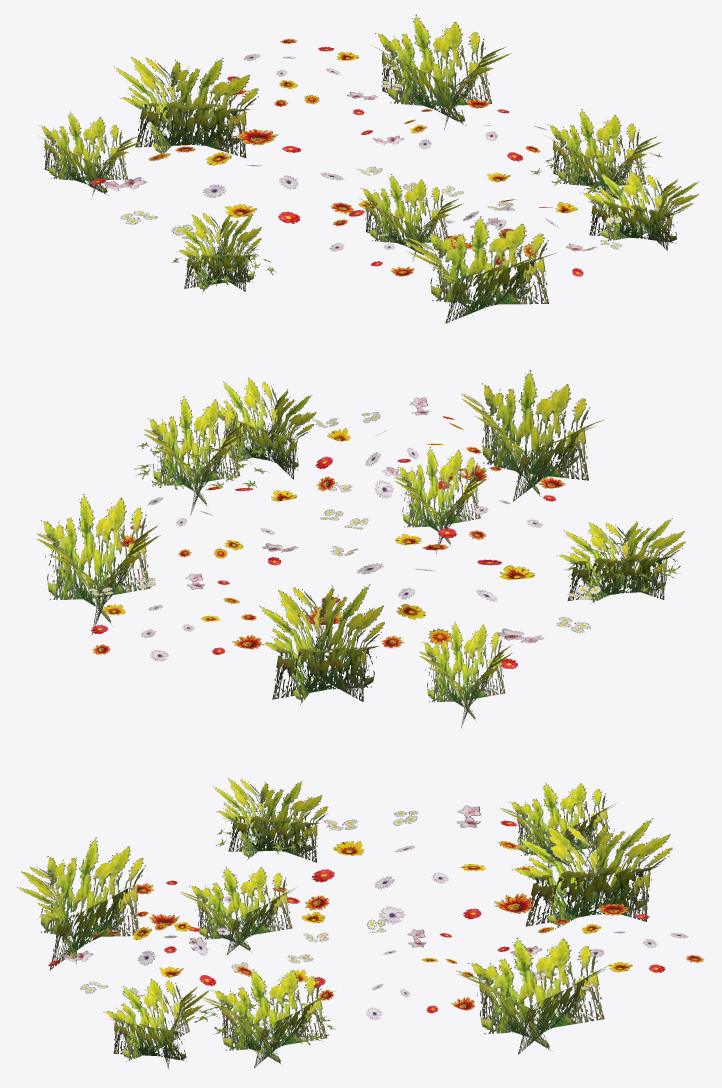
The model's file is flowerbed10m.DAE.
The picture shows the model from 3 angles, top to bottom: view 1: azimuth 30°, elevation 25°; view 2: azimuth 150°, elevation 25°; view 3: azimuth 270°, elevation 25°; orthographic projection. The views are drawn at different scales.
Parts seen in each view (by area): view 1: Object03-Pivot, Object04-Pivot, Object05-Pivot, Plane01-Pivot, Object09-Pivot, Object06-Pivot, Object07-Pivot, Object08-Pivot, Object02-Pivot, Plane02-Pivot, Object11-Pivot, Object01-Pivot; view 2: Object03-Pivot, Object04-Pivot, Object05-Pivot, Object08-Pivot, Plane01-Pivot, Object06-Pivot, Object09-Pivot, Object07-Pivot, Object02-Pivot, Plane02-Pivot, Object11-Pivot, Object01-Pivot; view 3: Object03-Pivot, Object05-Pivot, Object04-Pivot, Object06-Pivot, Plane01-Pivot, Object08-Pivot, Object02-Pivot, Object09-Pivot, Object07-Pivot, Plane02-Pivot, Object01-Pivot, Object11-Pivot.
Part boxes in pixels (<box>): Object03-Pivot: <box>113,57,258,157</box>; Object04-Pivot: <box>403,216,557,323</box>; Object05-Pivot: <box>374,14,511,130</box>; Plane01-Pivot: <box>90,99,547,286</box>; Object09-Pivot: <box>580,171,699,250</box>; Object06-Pivot: <box>543,109,662,199</box>; Object07-Pivot: <box>37,111,141,198</box>; Object08-Pivot: <box>177,212,261,292</box>; Object02-Pivot: <box>359,174,463,261</box>; Plane02-Pivot: <box>329,139,662,276</box>; Object11-Pivot: <box>227,38,402,115</box>; Object01-Pivot: <box>444,199,621,276</box>; Object03-Pivot: <box>259,584,384,705</box>; Object04-Pivot: <box>461,370,605,501</box>; Object05-Pivot: <box>37,494,160,635</box>; Object08-Pivot: <box>557,518,685,603</box>; Plane01-Pivot: <box>120,486,680,668</box>; Object06-Pivot: <box>144,396,247,514</box>; Object09-Pivot: <box>208,377,316,479</box>; Object07-Pivot: <box>419,621,512,728</box>; Object02-Pivot: <box>394,447,488,553</box>; Plane02-Pivot: <box>134,436,565,545</box>; Object11-Pivot: <box>88,573,262,661</box>; Object01-Pivot: <box>313,397,486,498</box>; Object03-Pivot: <box>512,818,672,929</box>; Object05-Pivot: <box>456,937,611,1054</box>; Object04-Pivot: <box>17,837,148,970</box>; Object06-Pivot: <box>202,969,334,1068</box>; Plane01-Pivot: <box>216,805,533,1020</box>; Object08-Pivot: <box>213,778,328,862</box>; Object02-Pivot: <box>180,866,298,955</box>; Object09-Pivot: <box>103,979,210,1068</box>; Object07-Pivot: <box>499,782,615,867</box>; Plane02-Pivot: <box>130,874,335,1054</box>; Object01-Pivot: <box>48,914,252,998</box>; Object11-Pivot: <box>497,903,703,989</box>.
Bounding box in the file's own units: 19.41 × 2.75 × 21.41.
1 material, 1 textured.
